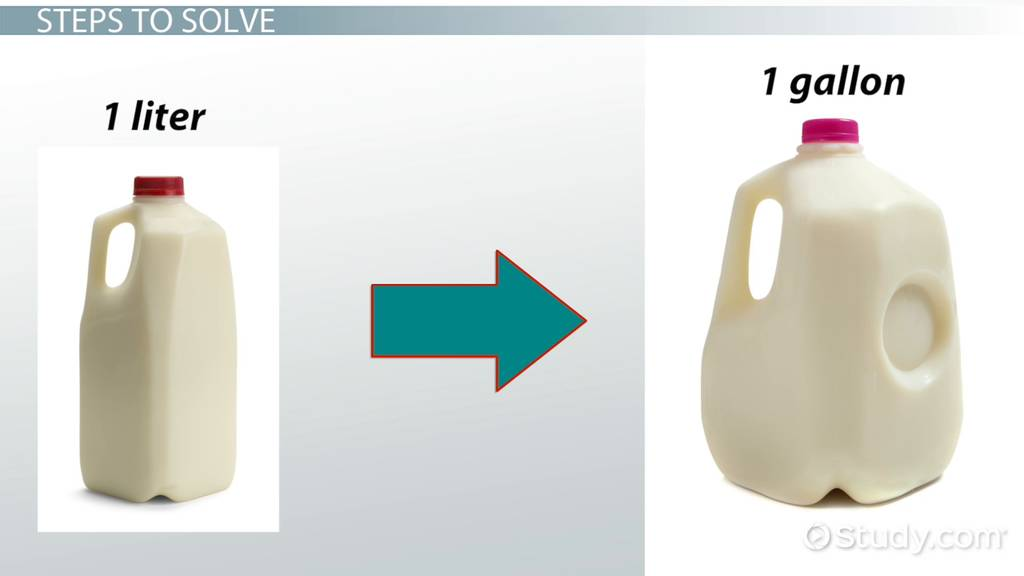milk: (707, 116, 971, 506), (85, 172, 245, 499)
